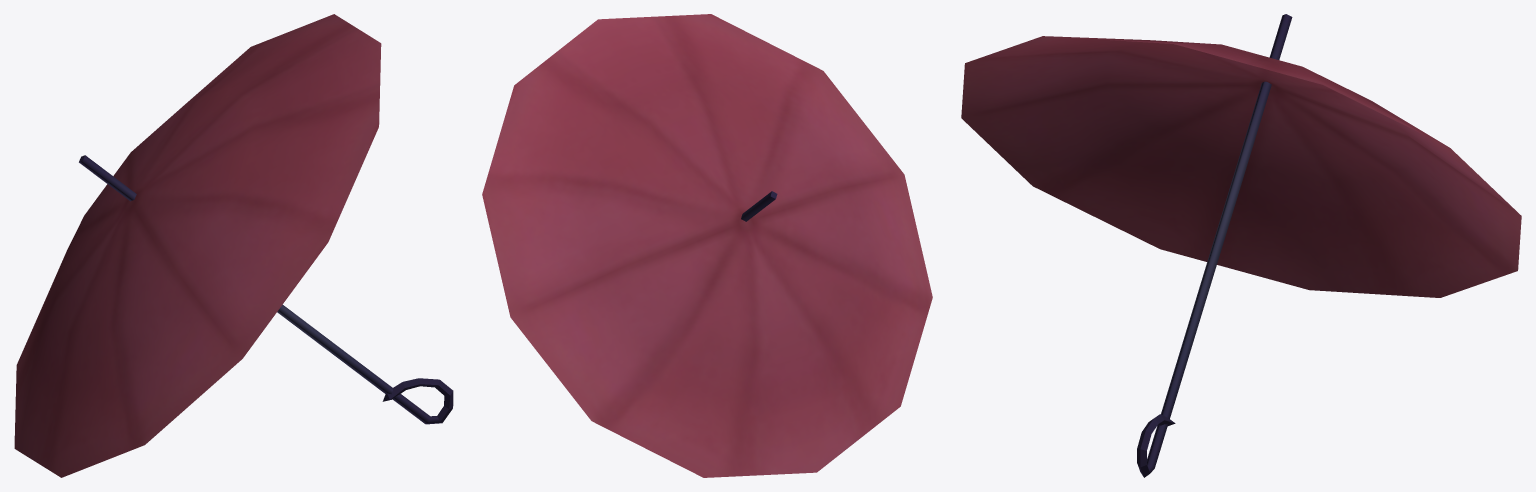
Rendered from BaoLuoGongZuoShi_01_san_01.FBX.
3 views of the same model, side by side, from view 1: azimuth 30°, elevation 25°; view 2: azimuth 150°, elevation 25°; view 3: azimuth 270°, elevation 25° (orthographic). The views are drawn at different scales.
Visible parts, largest first — view 1: BaoLuoGongZuoShi_01_san_01; view 2: BaoLuoGongZuoShi_01_san_01; view 3: BaoLuoGongZuoShi_01_san_01.
Boxes of the visible parts, box(x1,y1,x2,y2) form: BaoLuoGongZuoShi_01_san_01: box(14, 14, 453, 477); BaoLuoGongZuoShi_01_san_01: box(482, 14, 932, 477); BaoLuoGongZuoShi_01_san_01: box(961, 14, 1521, 477).
Size of the model in its own units: 405 by 386 by 479.
